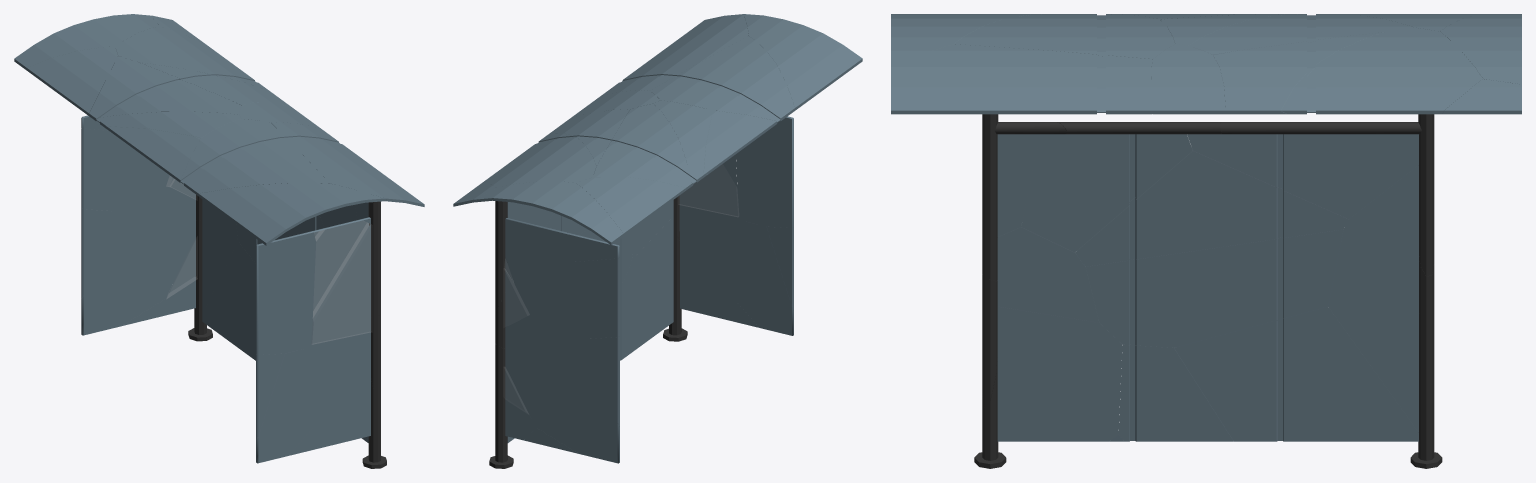
Rendered from BusStopScatter.fbx.
The picture shows the model from 3 angles, left to right: view 1: azimuth 30°, elevation 25°; view 2: azimuth 150°, elevation 25°; view 3: azimuth 270°, elevation 25°; orthographic projection. The views are drawn at different scales.
Parts seen in each view (by area): view 1: Side1_cell.009, Cover_cell.010, Side2_cell.002, Side2_cell.004, Cover_cell.011, Cover_cell.008, Side2_cell.008, Cover_cell.001, Side2_cell.007, Backside_cell, Side1_cell.001, Cover_cell.002 (+20 smaller); view 2: Side1_cell.009, Cover_cell.010, Side2_cell.004, Cover_cell.011, Side2_cell.002, Side1_cell.005, Cover_cell.008, Backside_cell.004, Side2_cell.007, Cover_cell.001, Side1_cell.001, Cover_cell.009 (+22 smaller); view 3: Backside_cell, Backside_cell.010, Cover_cell.001, Backside_cell.009, Backside_cell.004, Backside_cell.008, Backside_cell.006, Cover_cell.002, Backside_cell.003, Backside_cell.001, Cover_cell.010, Backside_cell.002 (+18 smaller).
Part boxes in pixels (box(x1,y1,x2,y2)): Side1_cell.009: box(81, 185, 195, 335); Cover_cell.010: box(180, 119, 329, 194); Side2_cell.002: box(256, 231, 315, 354); Side2_cell.004: box(304, 331, 370, 448); Cover_cell.011: box(197, 183, 386, 245); Cover_cell.008: box(88, 56, 241, 119); Side2_cell.008: box(311, 222, 370, 344); Cover_cell.001: box(271, 122, 424, 206); Side2_cell.007: box(256, 349, 313, 463); Backside_cell: box(202, 242, 255, 360); Side1_cell.001: box(81, 128, 139, 210); Cover_cell.002: box(115, 26, 268, 90); Side1_cell.009: box(505, 314, 619, 463); Cover_cell.010: box(650, 36, 794, 122); Side2_cell.004: box(679, 204, 746, 321); Cover_cell.011: box(744, 14, 862, 111); Side2_cell.002: box(736, 116, 793, 227); Side1_cell.005: box(505, 218, 575, 314); Cover_cell.008: box(593, 103, 691, 190); Backside_cell.004: box(624, 216, 673, 354); Side2_cell.007: box(737, 222, 793, 335); Cover_cell.001: box(601, 14, 748, 95); Side1_cell.001: box(563, 257, 619, 338); Cover_cell.009: box(476, 181, 623, 245); Backside_cell: box(1174, 307, 1418, 441); Backside_cell.010: box(1086, 229, 1343, 347); Cover_cell.001: box(891, 44, 1152, 114); Backside_cell.009: box(1075, 147, 1348, 266); Backside_cell.004: box(997, 306, 1122, 441); Backside_cell.008: box(1328, 165, 1418, 432); Backside_cell.006: box(1021, 134, 1192, 252); Cover_cell.002: box(1281, 27, 1482, 114); Backside_cell.003: box(1187, 134, 1418, 218); Backside_cell.001: box(1118, 344, 1233, 441); Cover_cell.010: box(954, 14, 1174, 58); Backside_cell.002: box(997, 222, 1099, 322).
Bounding box in the file's own units: 424 × 778 × 1162.
